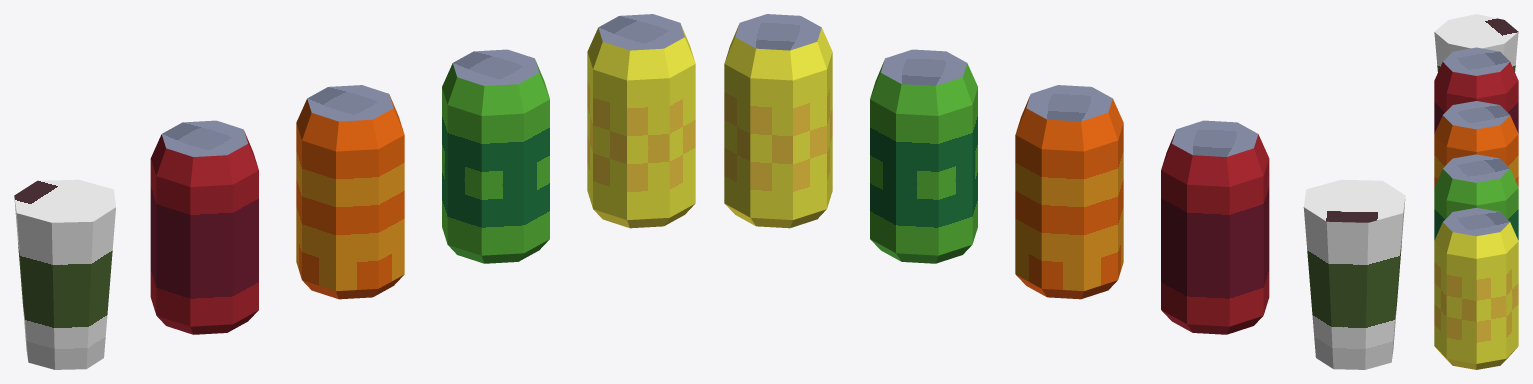
Rendered from vending_items.fbx.
The picture shows the model from 3 angles, left to right: view 1: azimuth 30°, elevation 25°; view 2: azimuth 150°, elevation 25°; view 3: azimuth 270°, elevation 25°; orthographic projection. The views are drawn at different scales.
Parts seen in each view (by area): view 1: orange_soda, red_soda, yellow_soda, green_soda, coffee_cup; view 2: orange_soda, yellow_soda, red_soda, green_soda, coffee_cup; view 3: yellow_soda, green_soda, red_soda, orange_soda, coffee_cup.
Part boxes in pixels (<box>): orange_soda: <box>296,85,404,299</box>; red_soda: <box>150,120,258,334</box>; yellow_soda: <box>587,14,695,228</box>; green_soda: <box>442,49,549,263</box>; coffee_cup: <box>14,179,115,369</box>; orange_soda: <box>1015,85,1123,299</box>; yellow_soda: <box>724,14,832,228</box>; red_soda: <box>1161,120,1269,334</box>; green_soda: <box>870,49,977,263</box>; coffee_cup: <box>1303,179,1405,369</box>; yellow_soda: <box>1434,208,1518,369</box>; green_soda: <box>1434,154,1518,240</box>; red_soda: <box>1434,47,1518,133</box>; orange_soda: <box>1434,101,1518,186</box>; coffee_cup: <box>1434,14,1518,71</box>.
Bounding box in the file's own units: 55.51 × 14.24 × 8.
